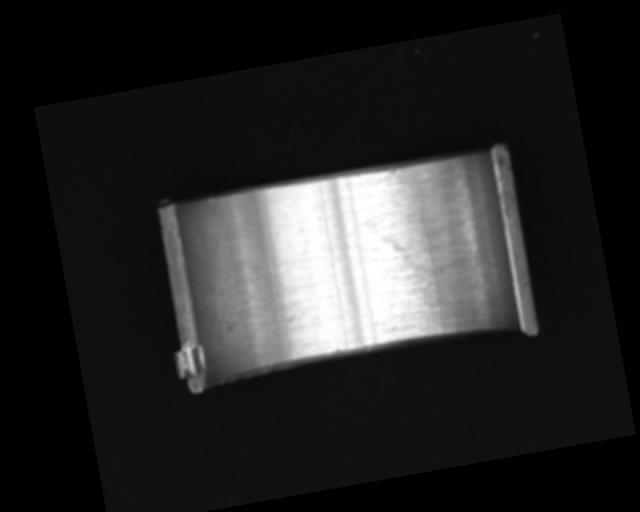bruise: (387, 166, 399, 176)
